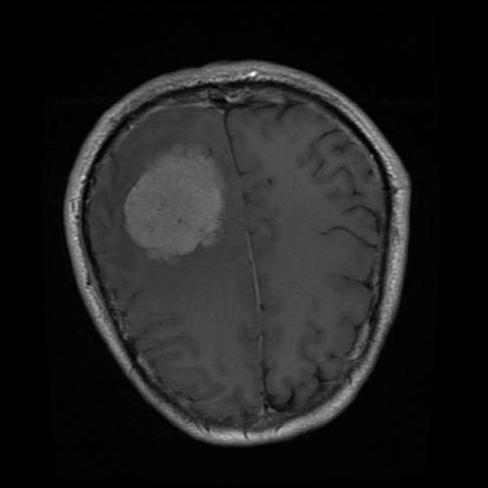Tumour-Meningioma: (110, 129, 270, 280)
